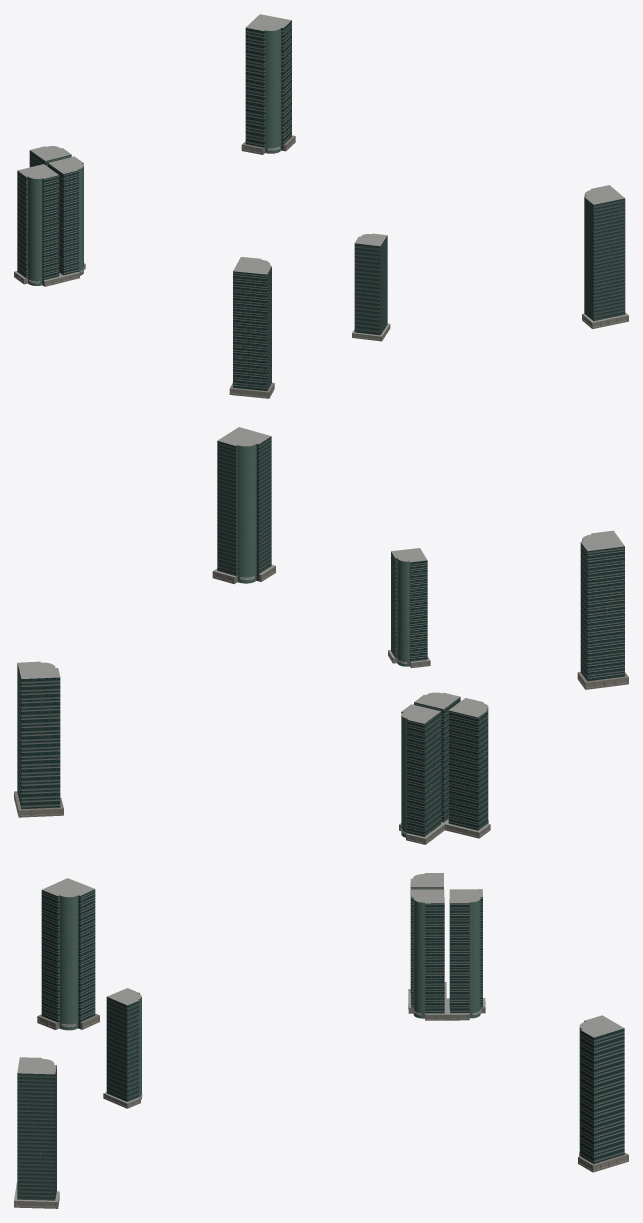
File: Mexico_track_building_city_04.dae
3 renders of one model, top to bottom at view 1: azimuth 30°, elevation 25°; view 2: azimuth 150°, elevation 25°; view 3: azimuth 270°, elevation 25°, orthographic. The views are drawn at different scales.
Visible parts, largest first — view 1: building_city_03, building_city_01, building_city_02, building_city_05, building_city_04, building_city_06, building_city_07; view 2: building_city_01, building_city_02, building_city_03, building_city_07, building_city_05, building_city_04, building_city_06; view 3: building_city_02, building_city_03, building_city_01, building_city_06, building_city_07, building_city_04, building_city_05.
Boxes of the visible parts, box(x1,y1,x2,y2) form: building_city_03: box(241, 14, 295, 154); building_city_01: box(582, 185, 628, 328); building_city_02: box(229, 257, 274, 398); building_city_05: box(14, 164, 62, 286); building_city_04: box(352, 233, 390, 341); building_city_06: box(48, 156, 85, 282); building_city_07: box(29, 146, 71, 167); building_city_01: box(212, 427, 275, 584); building_city_02: box(577, 530, 628, 689); building_city_03: box(14, 661, 63, 817); building_city_07: box(399, 704, 444, 844); building_city_05: box(445, 698, 490, 838); building_city_04: box(388, 548, 430, 668); building_city_06: box(414, 692, 460, 824); building_city_02: box(37, 878, 99, 1030); building_city_03: box(578, 1015, 628, 1172); building_city_01: box(14, 1057, 59, 1208); building_city_06: box(408, 889, 447, 1020); building_city_07: box(447, 889, 485, 1020); building_city_04: box(103, 988, 142, 1108); building_city_05: box(408, 873, 446, 998).
Bounding box in the file's own units: 46.44 × 54.59 × 13.07.
4 materials, 4 textured.
